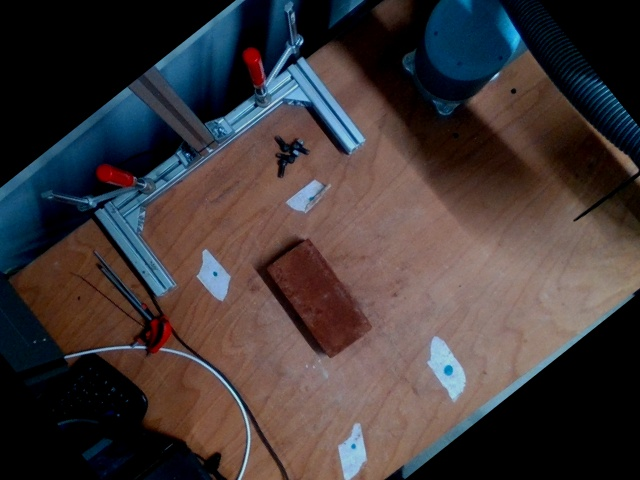brick: (265, 238, 369, 356)
